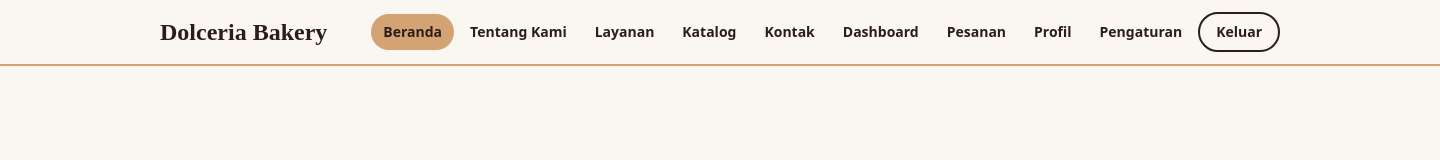
Navbar › menampilkan menu privat dan bisa logout saat sudah login
This screenshot has width=1440, height=160.
Check: the link "Dashboard" is shown, box [843,22,919,41]
Step 1. Click the button "Keluar" → (1239, 32), box [1198,12,1280,52]
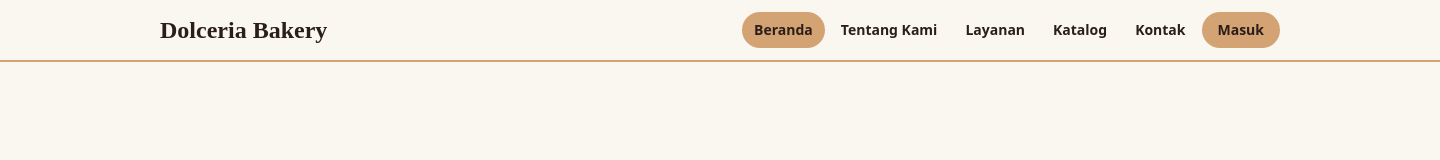
Check: the link "Masuk" is shown, box [1202,12,1280,48]
